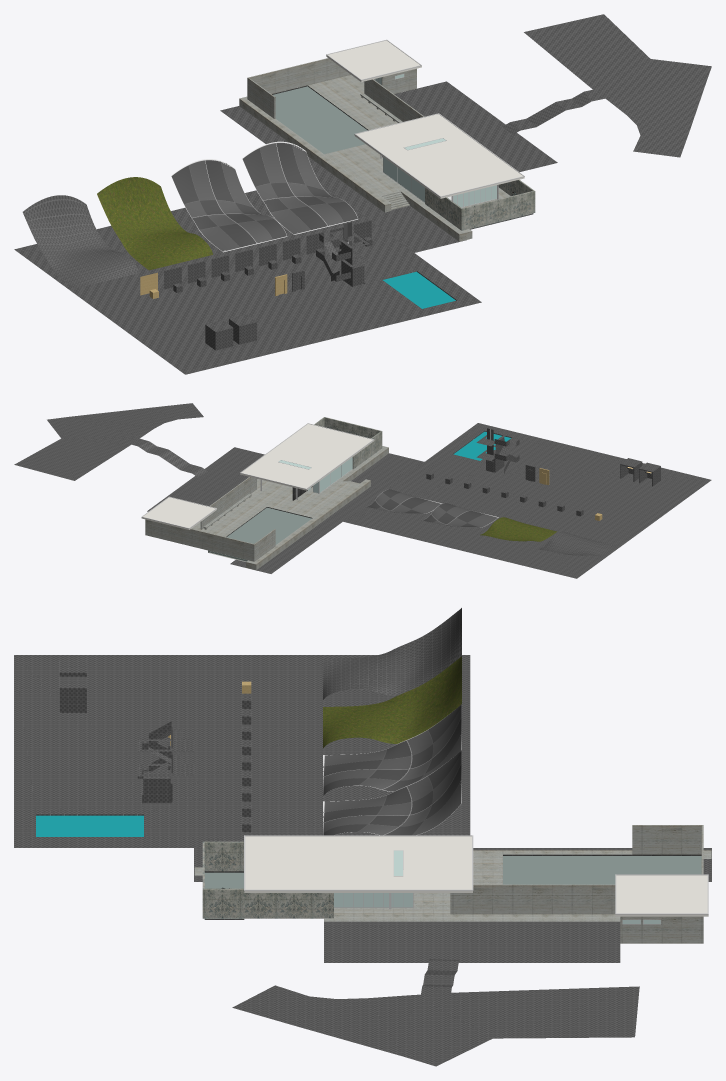
Rendered from test-environment.glb.
The picture shows the model from 3 angles, top to bottom: view 1: azimuth 30°, elevation 25°; view 2: azimuth 150°, elevation 25°; view 3: azimuth 270°, elevation 25°; orthographic projection. The views are drawn at different scales.
Parts seen in each view (by area): view 1: model, Pavillion-Environment, 3d_Travertin, 3d_Stucco, 3d_Water, 3d_marble_green, 3d_Glass, 3d_polished_metal; view 2: model, Pavillion-Environment, 3d_Travertin, 3d_Stucco, 3d_Water, 3d_marble_green, 3d_polished_metal, 3d_Glass; view 3: model (×2), Pavillion-Environment, 3d_Stucco, 3d_Travertin, 3d_Water, 3d_marble_green, 3d_polished_metal, 3d_Glass.
Boxes of the visible parts, x1=… form: model: x1=14, y1=141, x2=481, y2=374; Pavillion-Environment: x1=220, y1=14, x2=711, y2=252; 3d_Travertin: x1=239, y1=58, x2=510, y2=241; 3d_Stucco: x1=326, y1=40, x2=524, y2=198; 3d_Water: x1=273, y1=86, x2=531, y2=228; 3d_marble_green: x1=425, y1=179, x2=535, y2=230; 3d_Glass: x1=375, y1=74, x2=496, y2=207; 3d_polished_metal: x1=326, y1=39, x2=524, y2=207; model: x1=343, y1=423, x2=711, y2=578; Pavillion-Environment: x1=14, y1=403, x2=424, y2=573; 3d_Travertin: x1=145, y1=446, x2=388, y2=570; 3d_Stucco: x1=141, y1=424, x2=374, y2=529; 3d_Water: x1=208, y1=507, x2=311, y2=561; 3d_marble_green: x1=314, y1=417, x2=382, y2=469; 3d_polished_metal: x1=141, y1=423, x2=374, y2=528; 3d_Glass: x1=279, y1=457, x2=352, y2=492; model (×2): x1=14, y1=608, x2=470, y2=847; Pavillion-Environment: x1=194, y1=848, x2=711, y2=1066; 3d_Stucco: x1=244, y1=836, x2=708, y2=916; 3d_Travertin: x1=194, y1=825, x2=711, y2=943; 3d_Water: x1=204, y1=856, x2=701, y2=918; 3d_marble_green: x1=202, y1=841, x2=333, y2=918; 3d_polished_metal: x1=244, y1=835, x2=708, y2=924; 3d_Glass: x1=334, y1=850, x2=660, y2=923.
Size of what is drawn, in the model's own units: 115 by 9.7 by 76.51.
16 materials, 9 textured.
